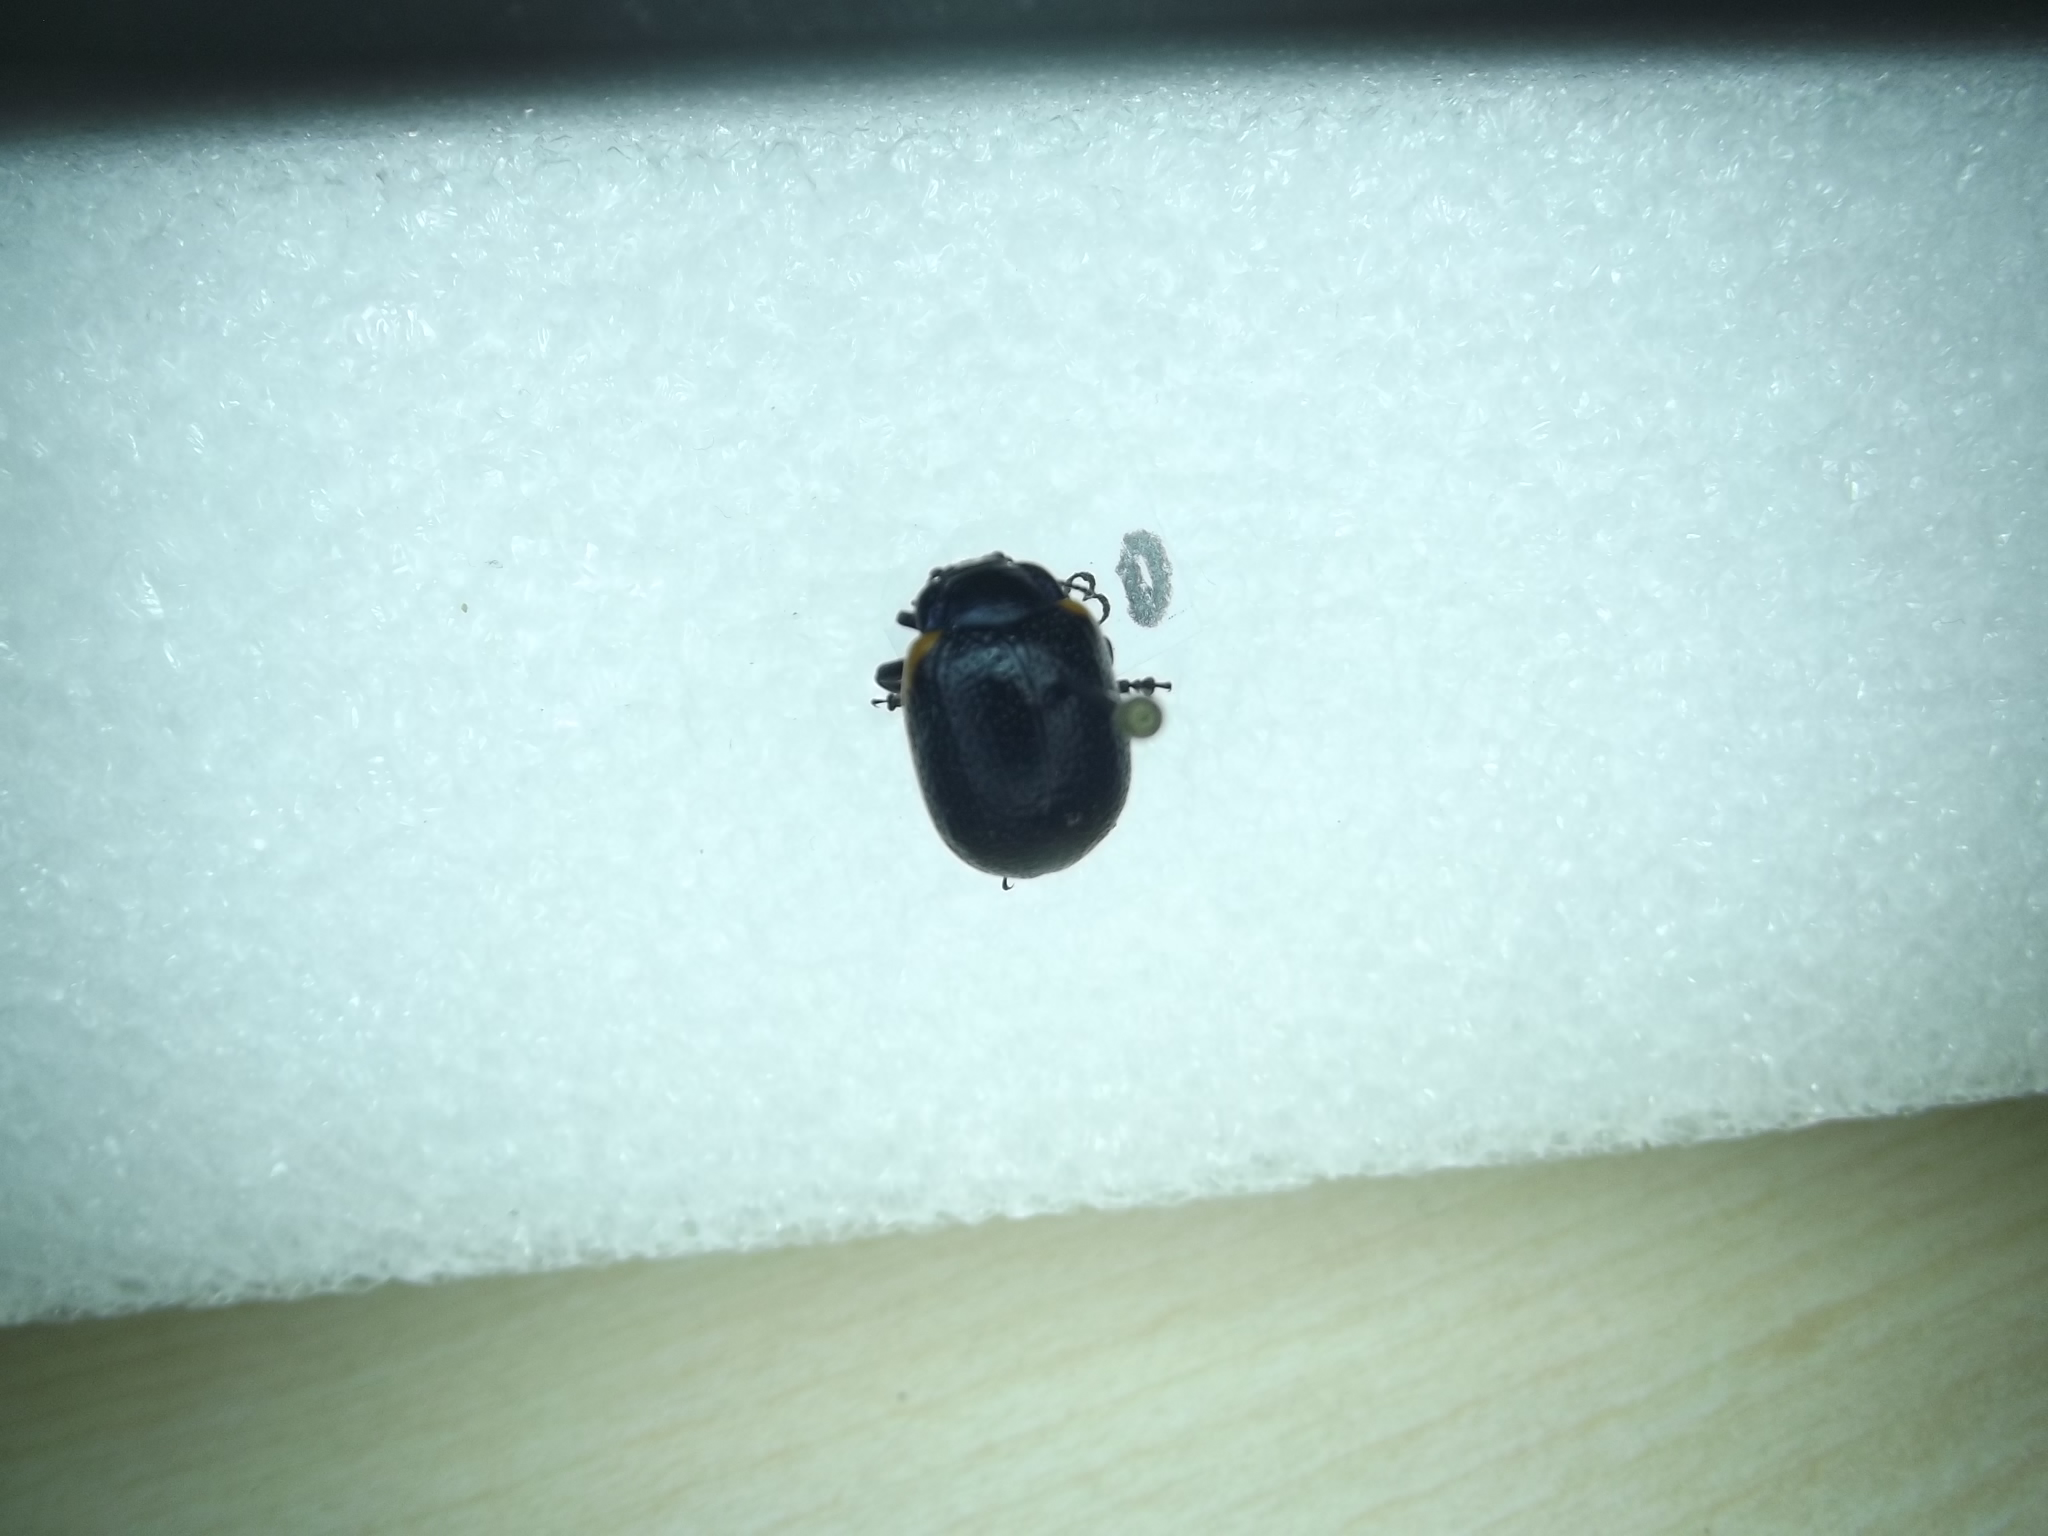Chrysolina_gypsophila: (871, 544, 1135, 887)
